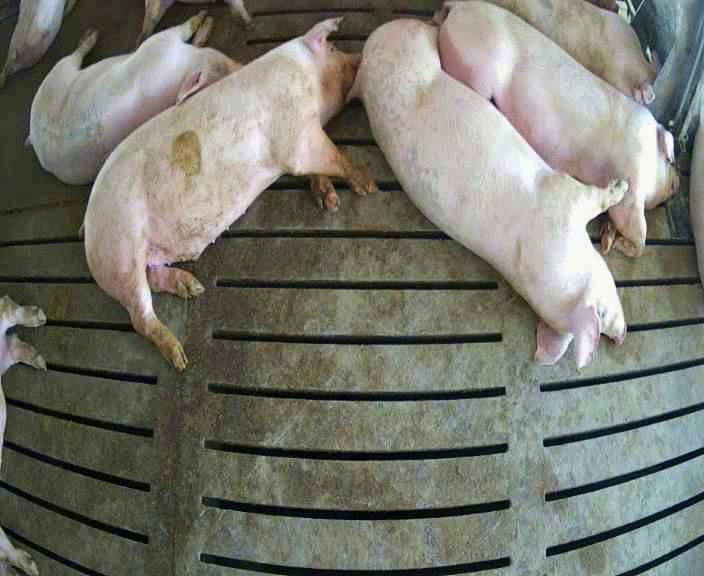pig: (84, 18, 376, 368), (352, 19, 626, 366), (438, 1, 677, 255), (29, 11, 238, 182), (498, 2, 655, 104)
